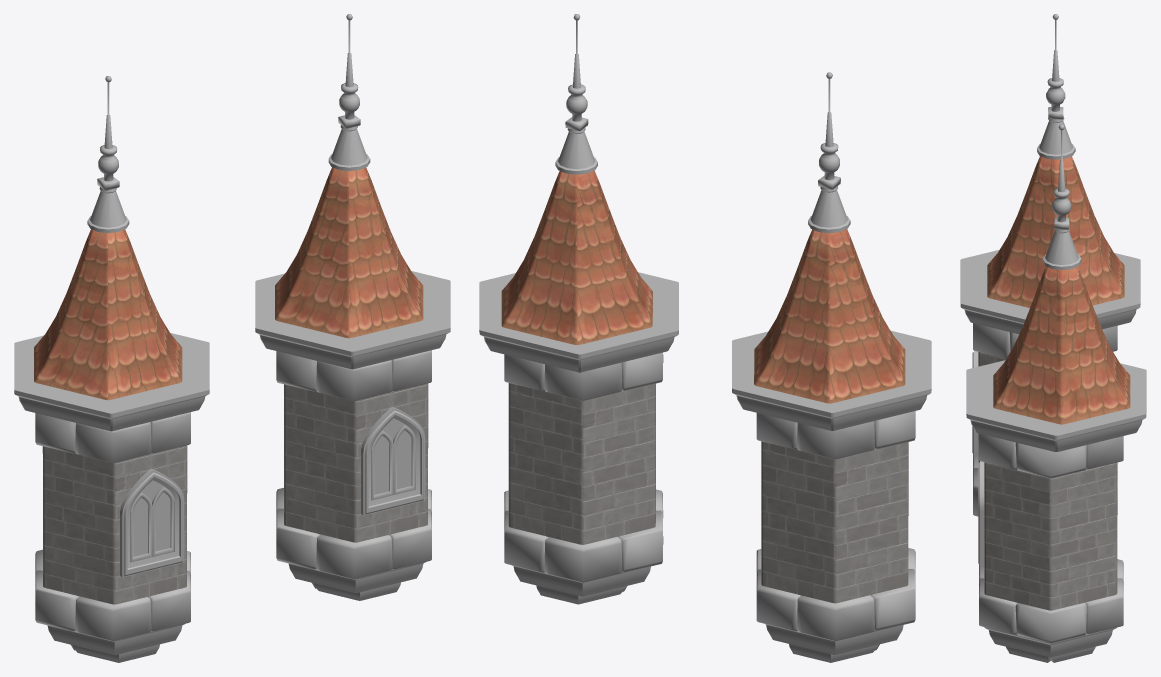
File: two_building.fbx
3 views of the same model, side by side, from view 1: azimuth 30°, elevation 25°; view 2: azimuth 150°, elevation 25°; view 3: azimuth 270°, elevation 25° (orthographic). The views are drawn at different scales.
Parts seen in each view (by area): view 1: Object33148.001, Object33148; view 2: Object33148, Object33148.001; view 3: Object33148.001, Object33148.
Part boxes in pixels (<box>): Object33148.001: <box>255,14,450,600</box>; Object33148: <box>14,76,209,662</box>; Object33148: <box>732,72,931,662</box>; Object33148.001: <box>479,14,678,604</box>; Object33148.001: <box>966,124,1146,662</box>; Object33148: <box>960,14,1140,516</box>.
Size of the model in its own units: 275 by 694 by 850.
